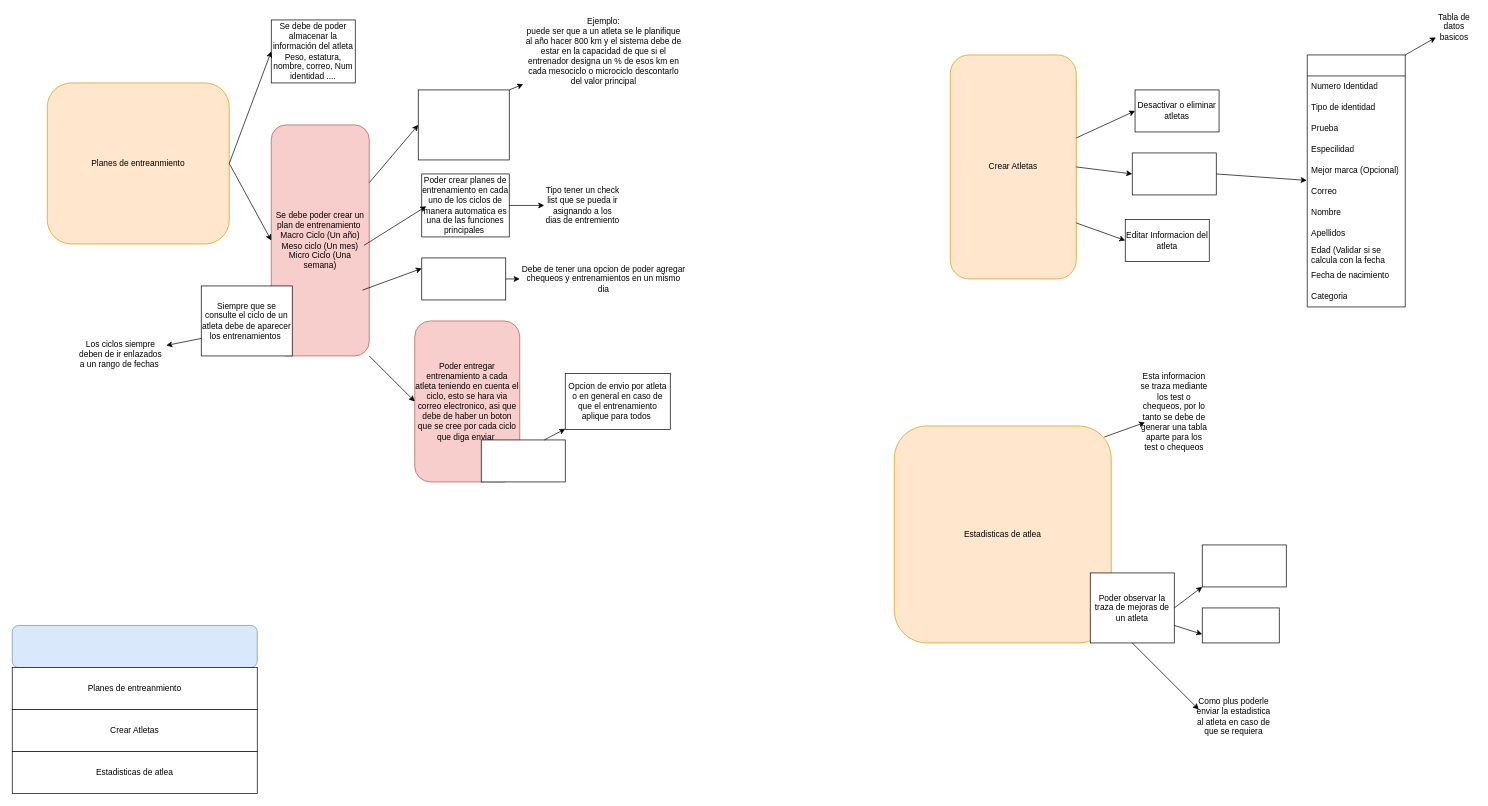
Image size: 1488x806. Some labels were removed from this diagram. The box of each missing label's shape, as (x1, y1, x2, y2) in pixels:
Agregar chequeos intermedios: (421, 257, 506, 300)
Alas estadísticas deben ser por cada atleta: (1202, 607, 1279, 643)
Atleta: (1307, 54, 1405, 307)
Contar con la opcion de crear atleta: (1132, 152, 1216, 195)
Crear Variables globales para almacenar entrenamientos globales (Tipo al año ): (418, 89, 509, 160)
Estadisticas mediante graficas o %: (1202, 544, 1286, 587)
Modulos del sistema: (12, 625, 257, 667)
Usar el envio de SMTP de google: (481, 439, 565, 482)
